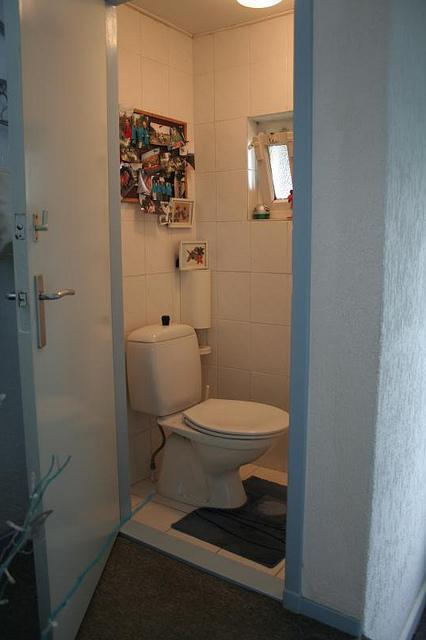Sanitario: (126, 311, 303, 529)
